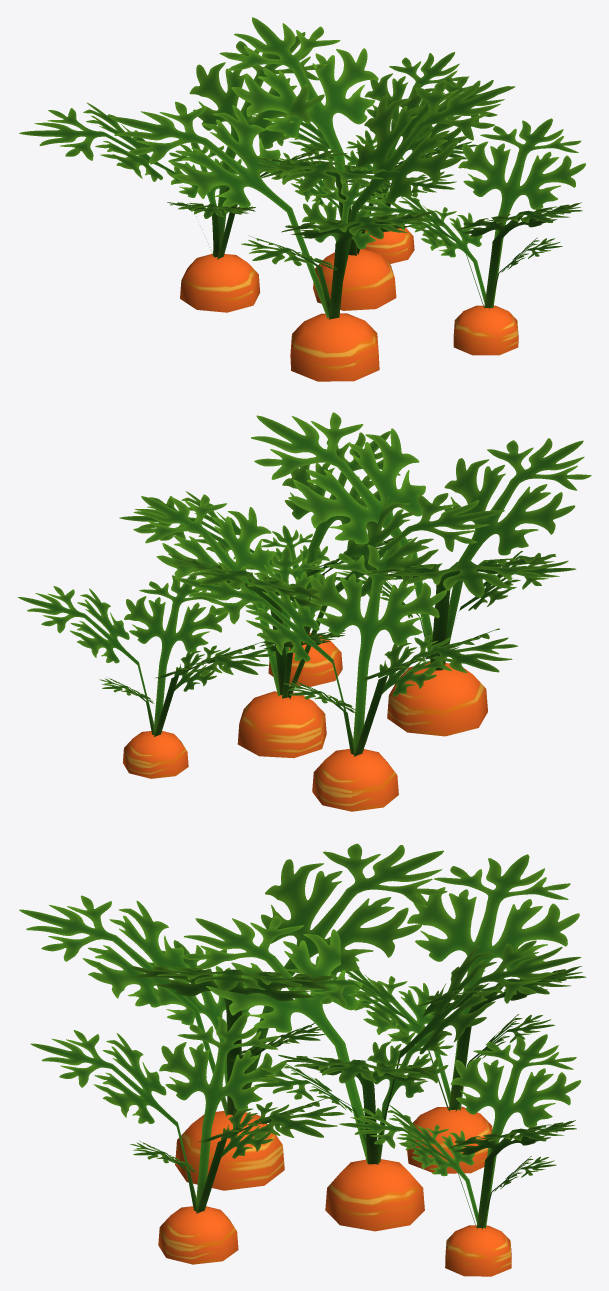
The model's file is plant_1.gltf.
The picture shows the model from 3 angles, top to bottom: view 1: azimuth 30°, elevation 25°; view 2: azimuth 150°, elevation 25°; view 3: azimuth 270°, elevation 25°; orthographic projection. The views are drawn at different scales.
Parts seen in each view (by area): view 1: Carrot_Plants_0; view 2: Carrot_Plants_0; view 3: Carrot_Plants_0.
Part boxes in pixels (bbox=[...]): Carrot_Plants_0: bbox=[19, 17, 585, 381]; Carrot_Plants_0: bbox=[17, 412, 591, 811]; Carrot_Plants_0: bbox=[19, 843, 586, 1276].
Size of the model in its own units: 1.43 by 0.7381 by 1.38.
Materials: 1 (1 with a texture image).
